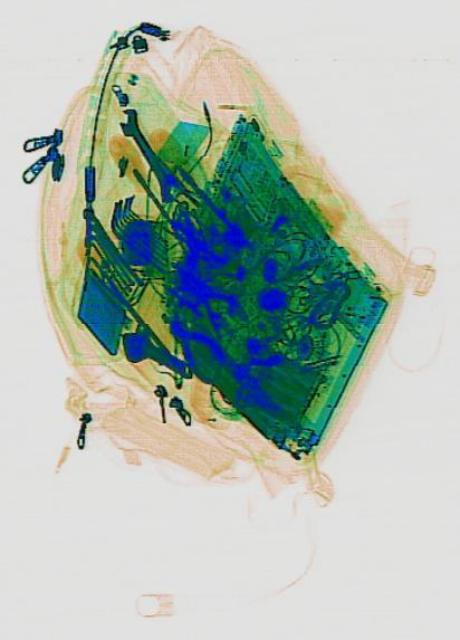Pliers: (158, 304, 225, 386)
Wrench: (110, 100, 183, 206)
